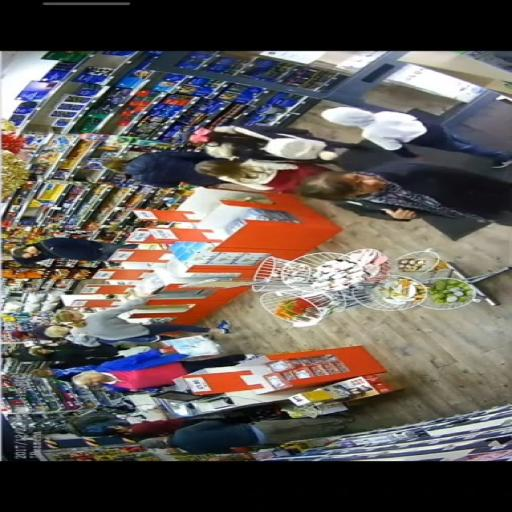workers: (58, 306, 226, 350), (69, 353, 249, 393), (121, 149, 244, 189), (11, 235, 127, 269)
